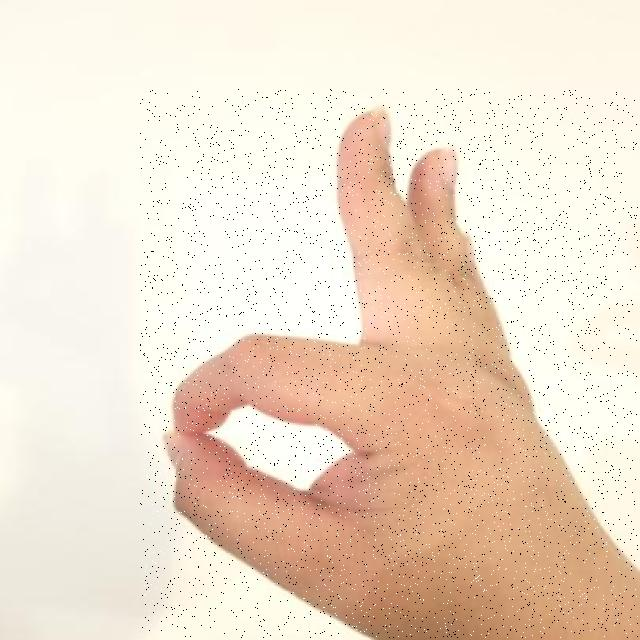F: (140, 89, 638, 638)
